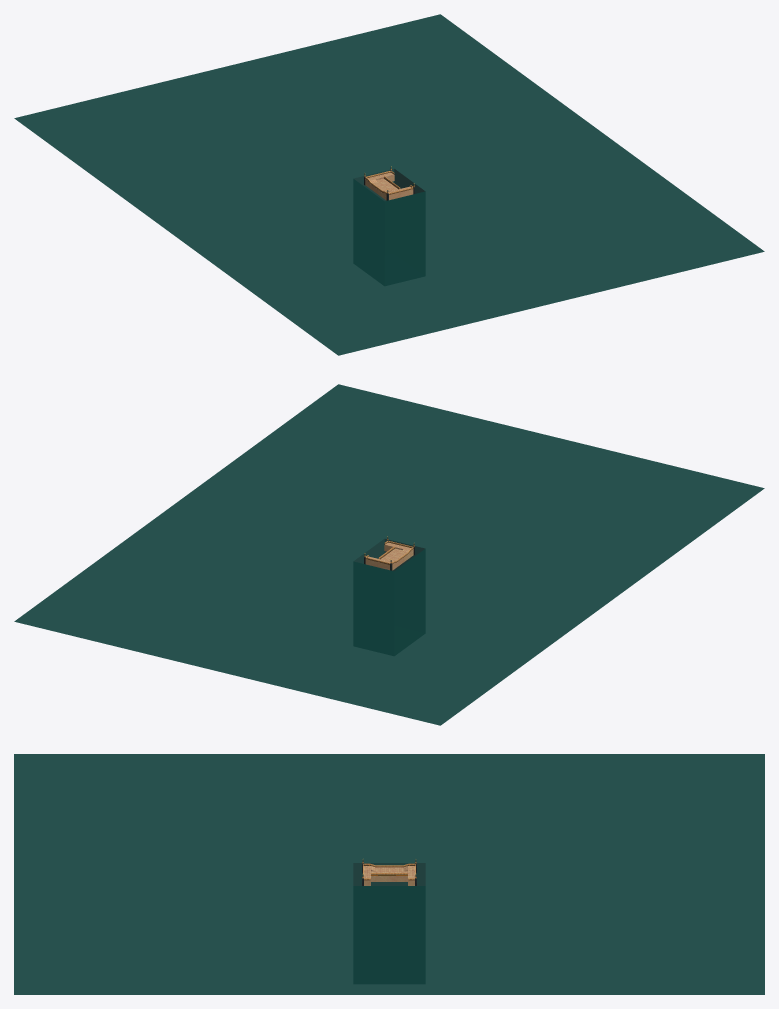
Rendered from Battle_Stage 29.fbx.
3 views of the same model, one above another, from view 1: azimuth 30°, elevation 25°; view 2: azimuth 150°, elevation 25°; view 3: azimuth 270°, elevation 25° (orthographic). The views are drawn at different scales.
Parts seen in each view (by area): view 1: Plane.175, CR_Platform_Cube.036; view 2: Plane.175, CR_Platform_Cube.036; view 3: Plane.175, CR_Platform_Cube.036.
Boxes of the visible parts, x1,y1,x2,y2 form: Plane.175: (14, 14, 764, 355); CR_Platform_Cube.036: (365, 172, 413, 200); Plane.175: (14, 384, 764, 725); CR_Platform_Cube.036: (365, 542, 413, 570); Plane.175: (14, 754, 764, 994); CR_Platform_Cube.036: (363, 866, 415, 885).
Bounding box in the file's own units: 87617 × 18109 × 115417.
